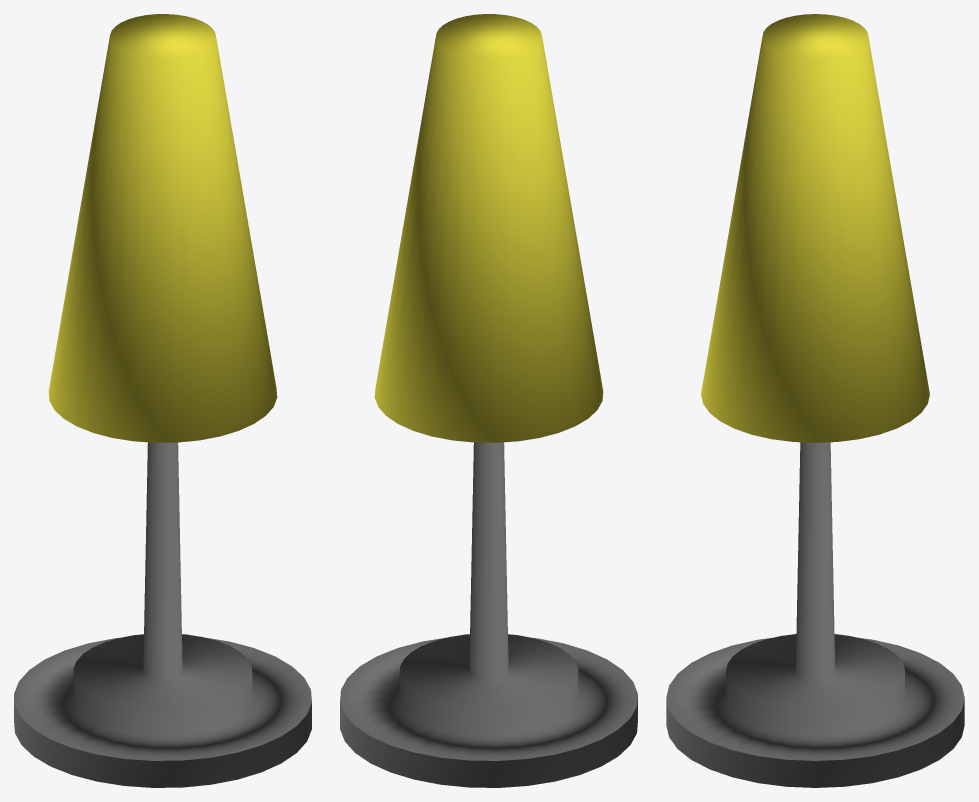
The model's file is Lampka.fbx.
The picture shows the model from 3 angles, left to right: view 1: azimuth 30°, elevation 25°; view 2: azimuth 150°, elevation 25°; view 3: azimuth 270°, elevation 25°; orthographic projection.
Parts seen in each view (by area): view 1: Cylinder.001; view 2: Cylinder.001; view 3: Cylinder.001.
Part boxes in pixels (x1,y1,x2,y2): Cylinder.001: (14,14,311,787); Cylinder.001: (340,14,637,787); Cylinder.001: (666,14,964,787).
Bounding box in the file's own units: 200 × 509 × 200.
